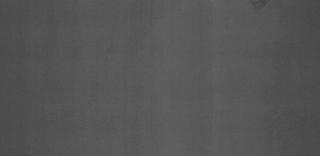water spot: (250, 1, 278, 17)
